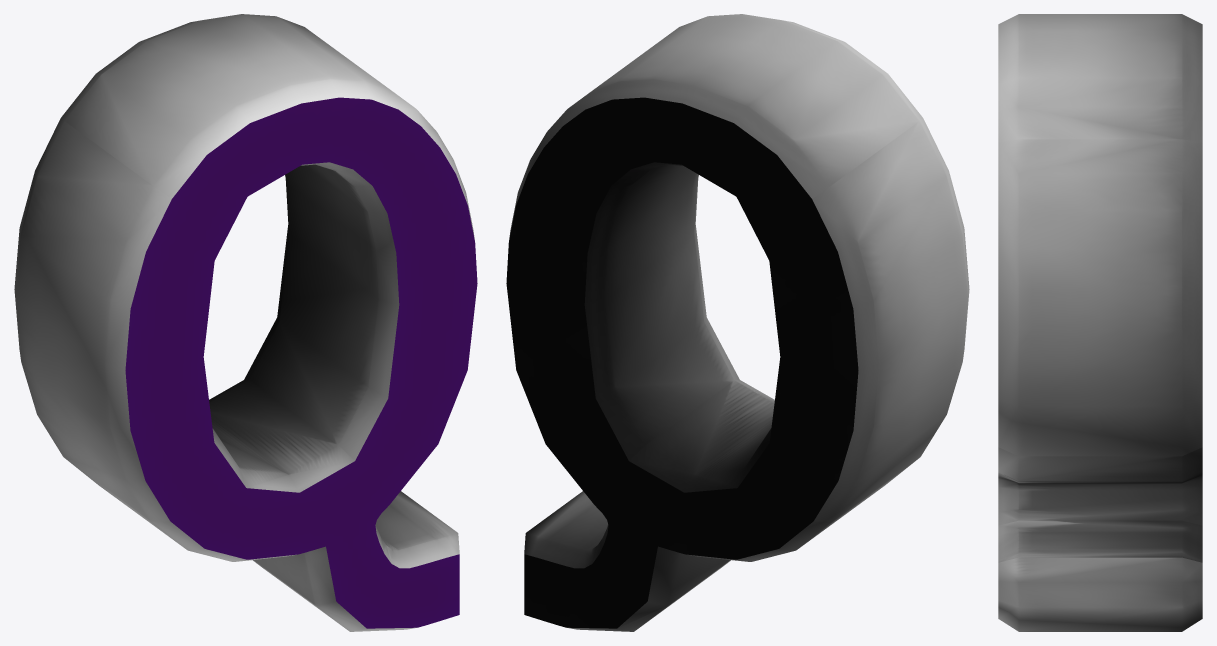
The model's file is FrameMarker_Q_textured.fbx.
3 views of the same model, side by side, from view 1: azimuth 30°, elevation 25°; view 2: azimuth 150°, elevation 25°; view 3: azimuth 270°, elevation 25° (orthographic). The views are drawn at different scales.
Parts seen in each view (by area): view 1: Frm0; view 2: Frm0; view 3: Frm0.
Boxes of the visible parts, <box> form: Frm0: <box>14,14,477,631</box>; Frm0: <box>506,14,969,631</box>; Frm0: <box>998,14,1202,631</box>.
Size of the model in its own units: 1.9 by 2.8 by 0.9831.
